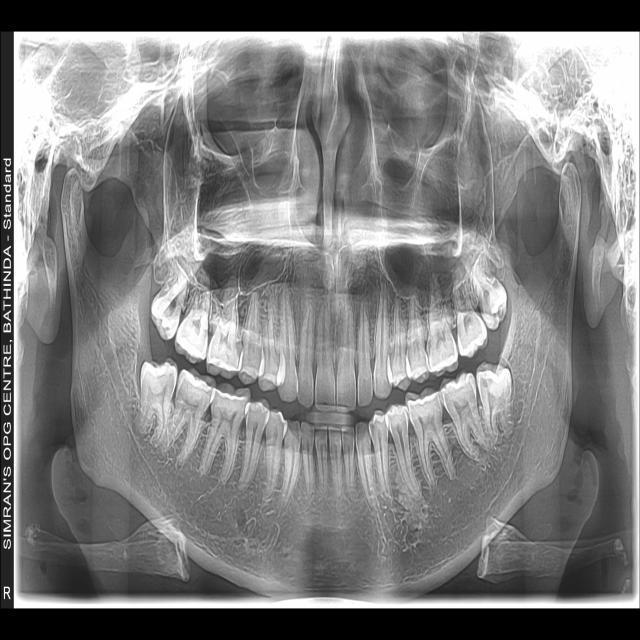Mandibular Canal: (96, 308, 240, 539), (416, 310, 553, 542)
impacted tooth: (140, 362, 178, 446), (476, 364, 512, 439)
